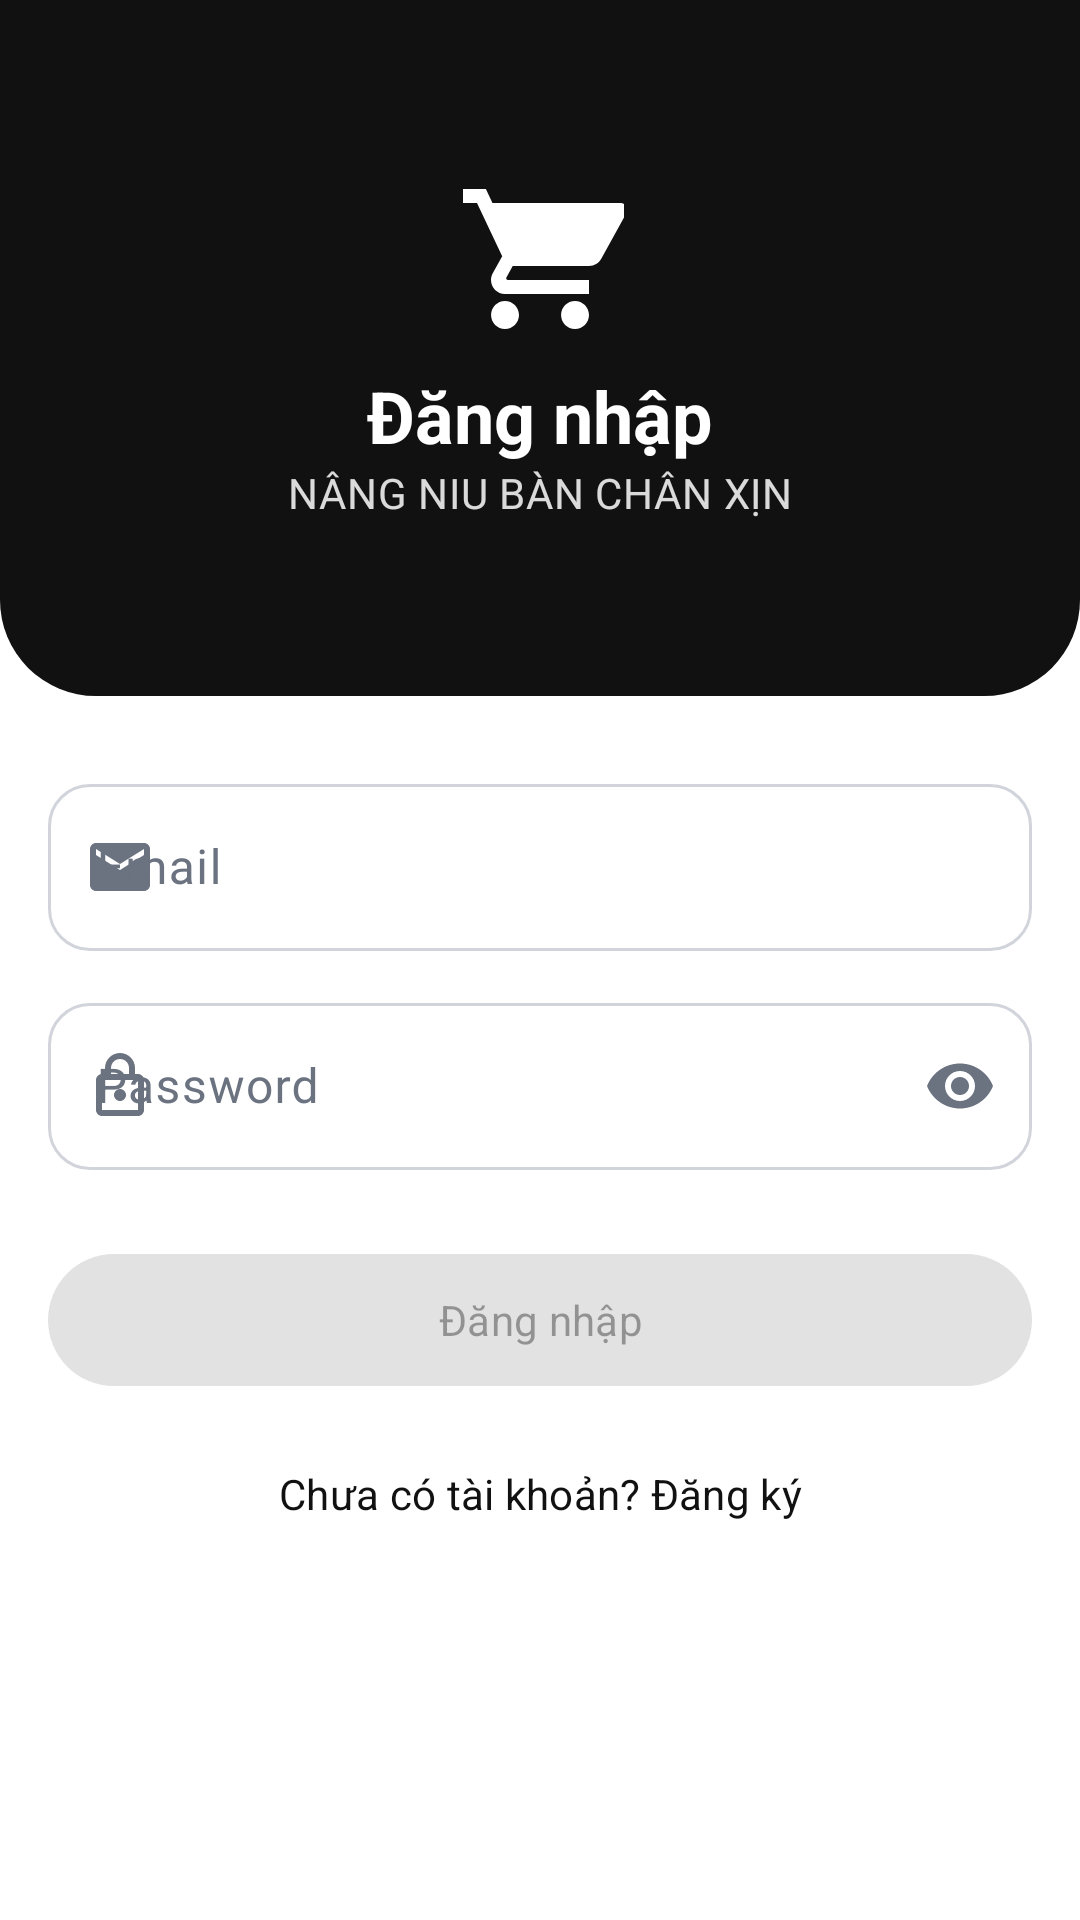

Icons on this 1080 x 1920 Android screen, each with the point to tap as (x,y):
cart: (543,259)
